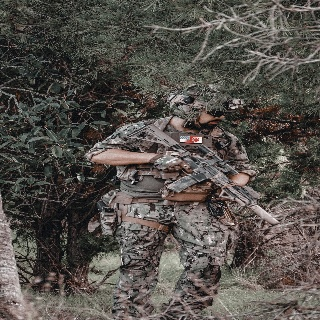rifle: (141, 122, 279, 228)
